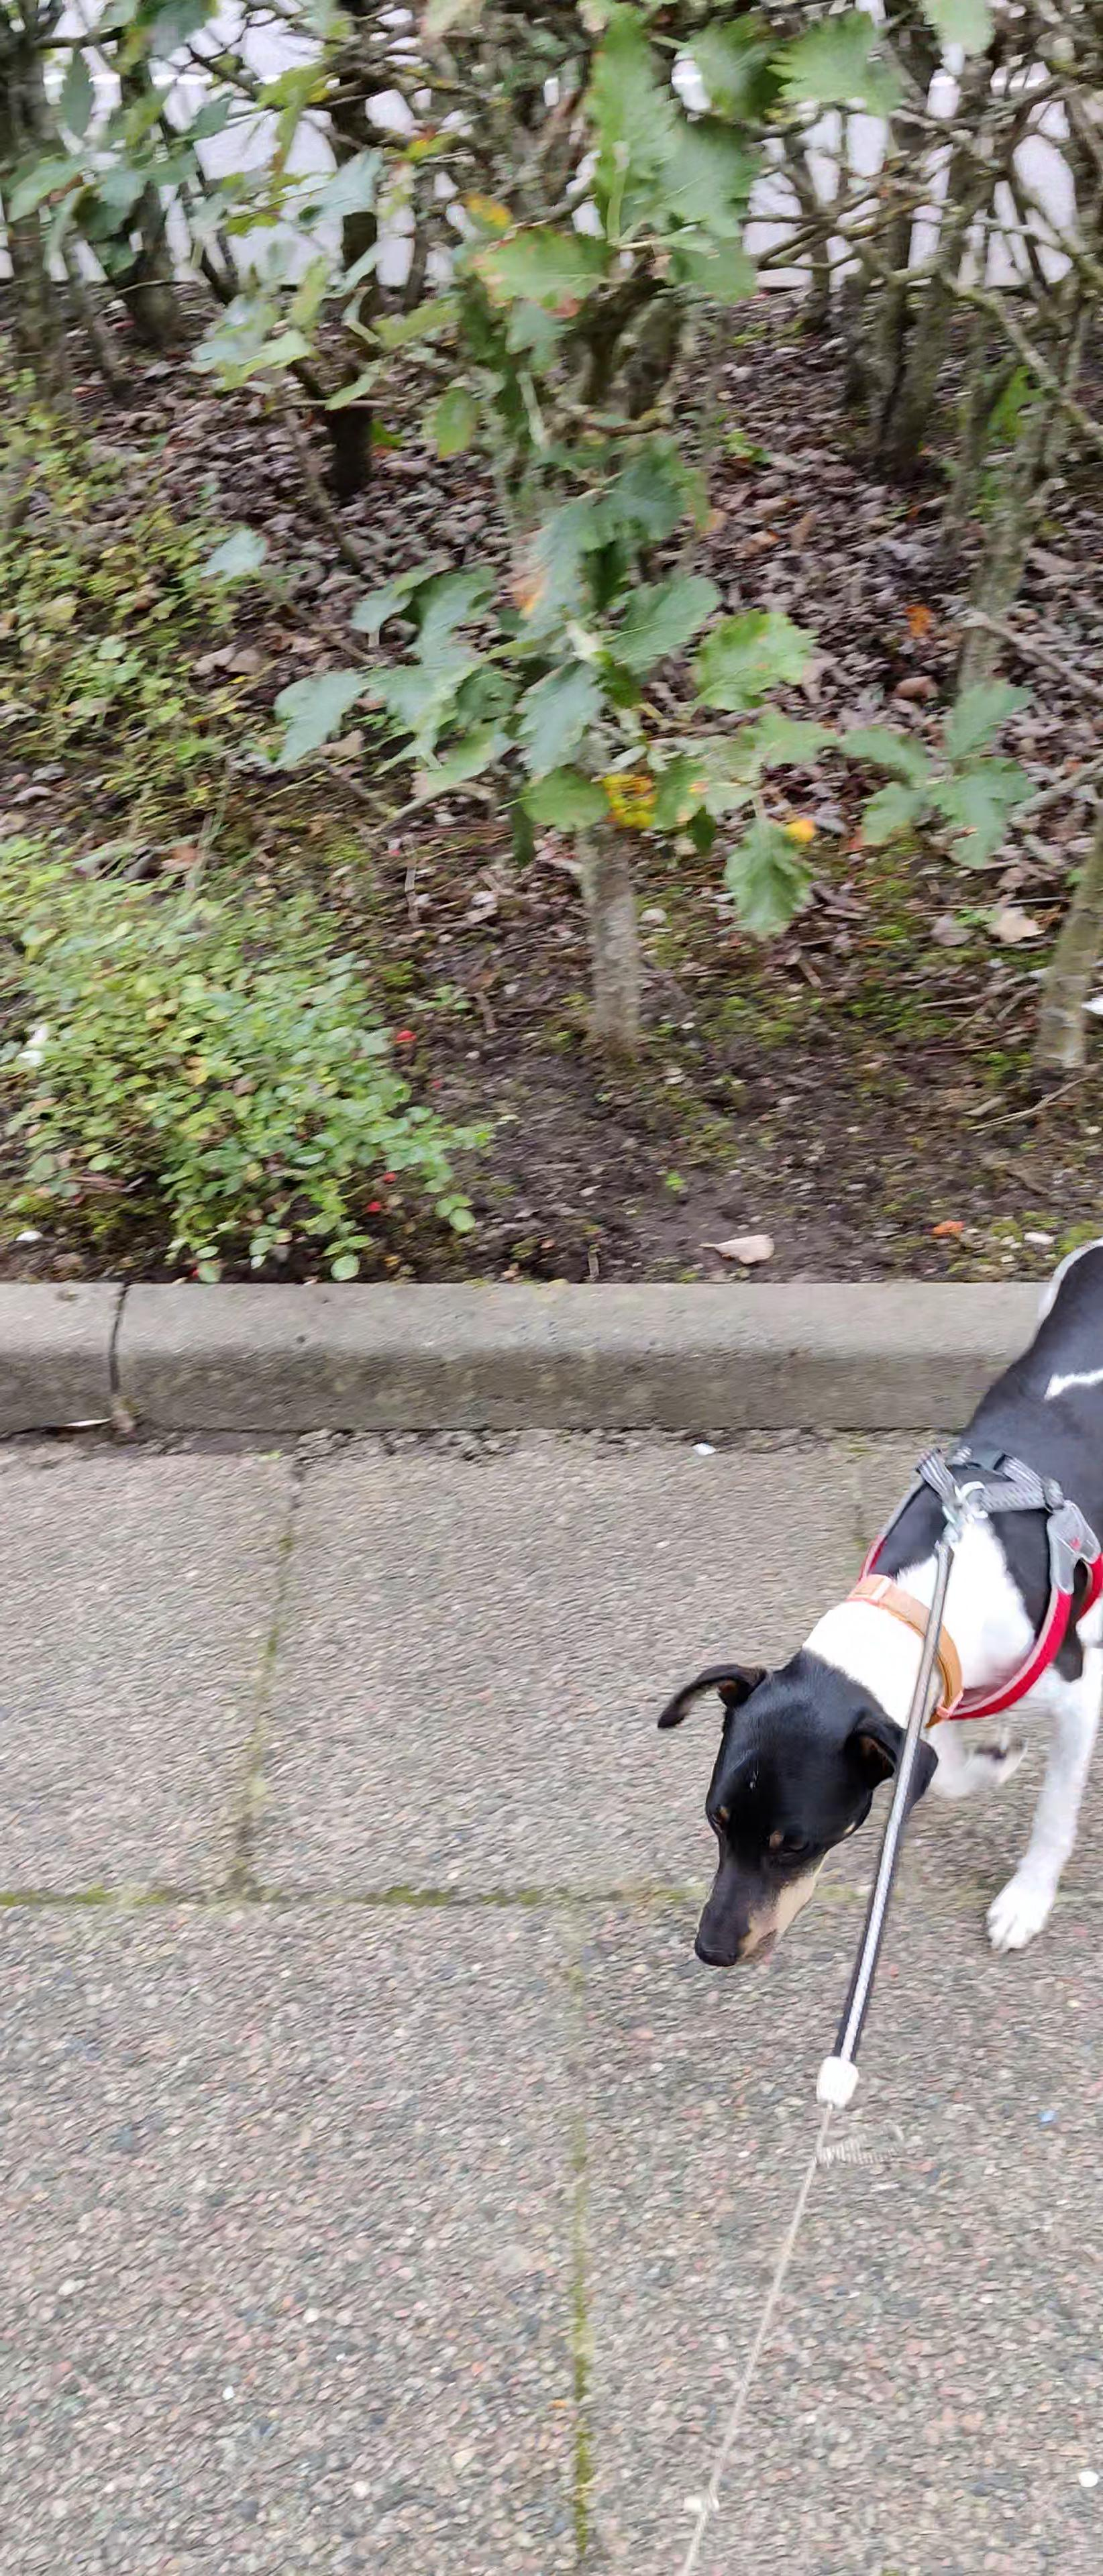Dog: (636, 1229, 1103, 1976)
